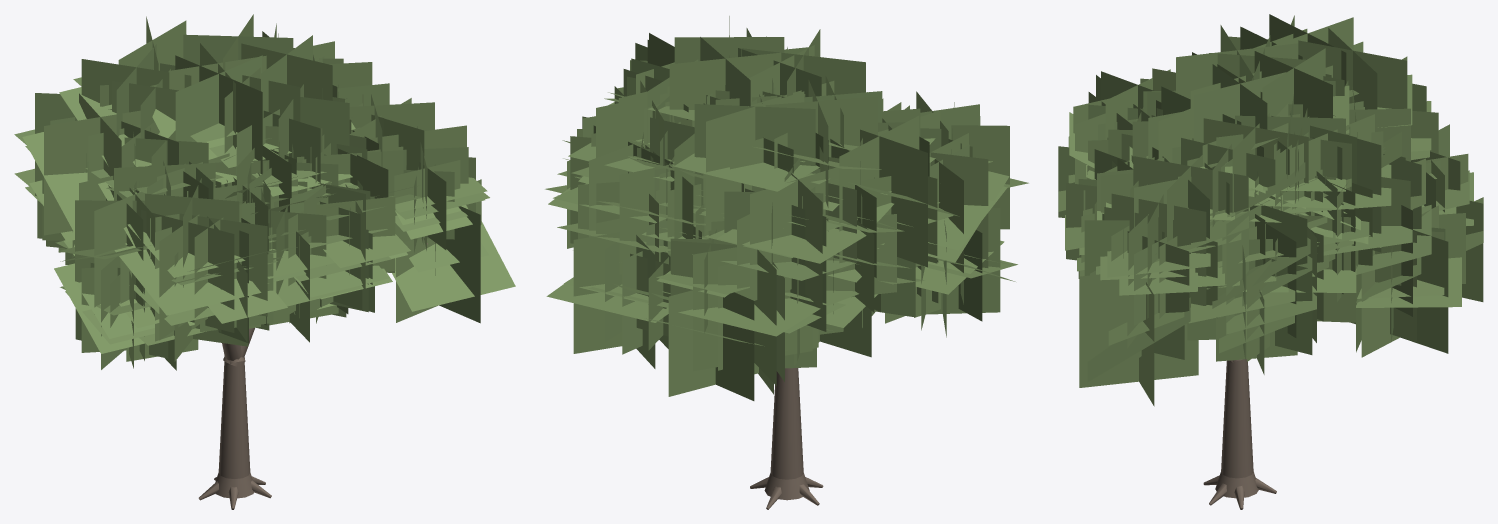
File: chestnut.glb
3 renders of one model, left to right at view 1: azimuth 30°, elevation 25°; view 2: azimuth 150°, elevation 25°; view 3: azimuth 270°, elevation 25°, orthographic. The views are drawn at different scales.
Visible parts, largest first — view 1: chestnut; view 2: chestnut; view 3: chestnut.
Part boxes in pixels (bbox=[...]): chestnut: bbox=[14, 14, 515, 509]; chestnut: bbox=[545, 16, 1028, 509]; chestnut: bbox=[1058, 14, 1483, 509].
Size of the model in its own units: 11.7 by 12.48 by 10.9.
